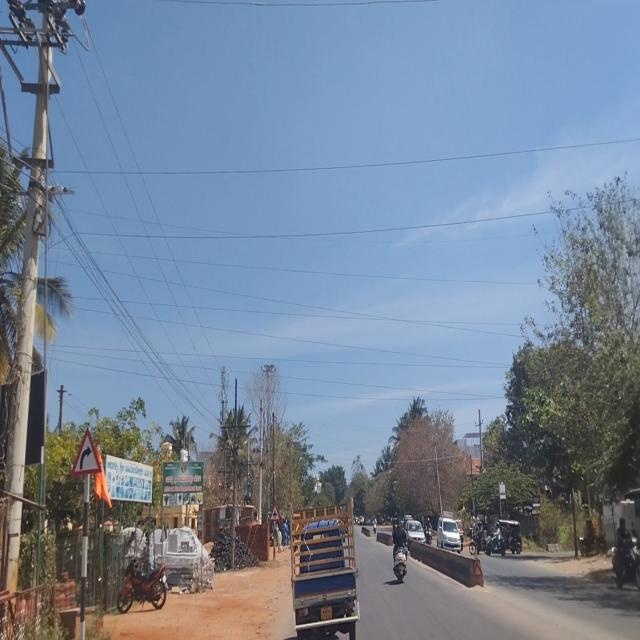bien_nguy_hiem: (69, 426, 102, 476), (269, 503, 281, 521)
